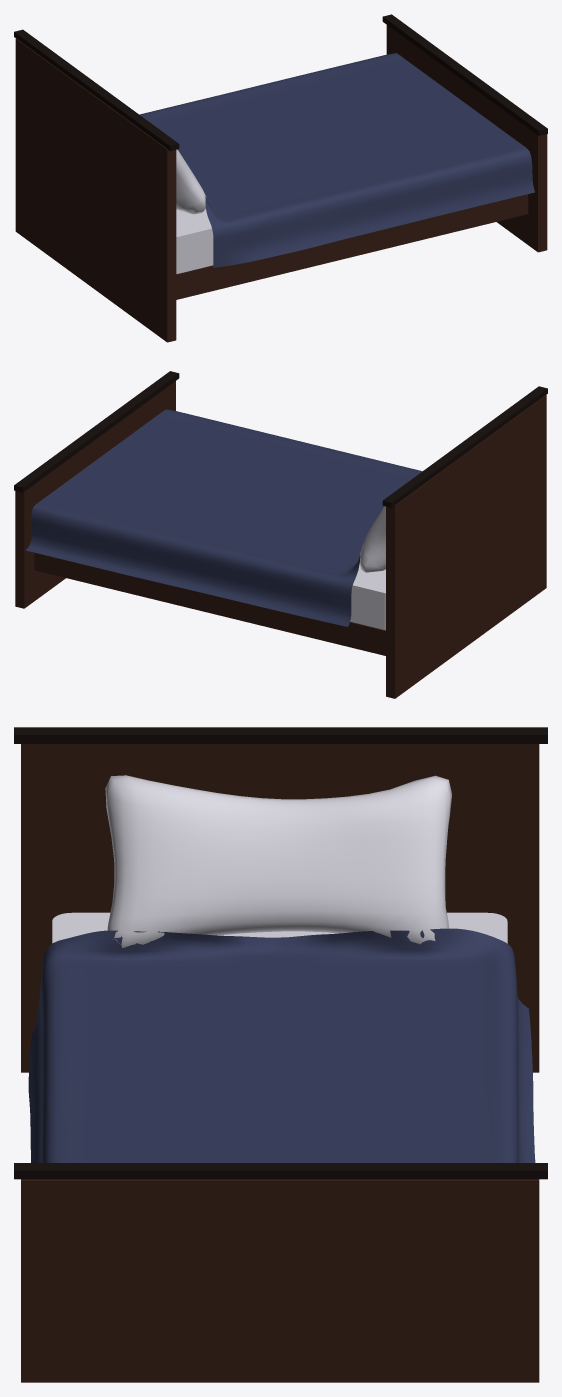
Rendered from cama.obj.
The picture shows the model from 3 angles, top to bottom: view 1: azimuth 30°, elevation 25°; view 2: azimuth 150°, elevation 25°; view 3: azimuth 270°, elevation 25°; orthographic projection. The views are drawn at different scales.
Parts seen in each view (by area): view 1: pPlane2; view 2: pPlane2; view 3: pPlane2.
Boxes of the visible parts, <box> form: pPlane2: <box>14,14,547,342</box>; pPlane2: <box>14,371,547,698</box>; pPlane2: <box>14,727,547,1382</box>.
Bounding box in the file's own units: 10.04 × 5 × 7.15.
Materials: 7 (6 with a texture image).
